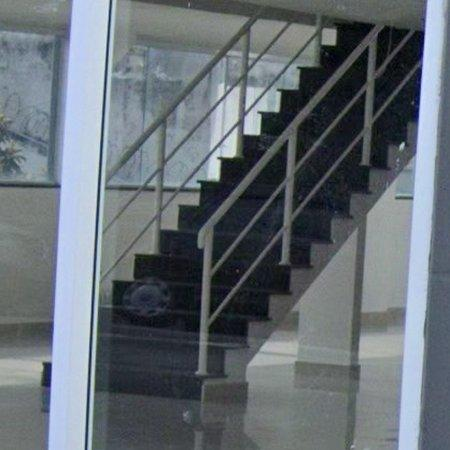stairs: (97, 25, 422, 400)
